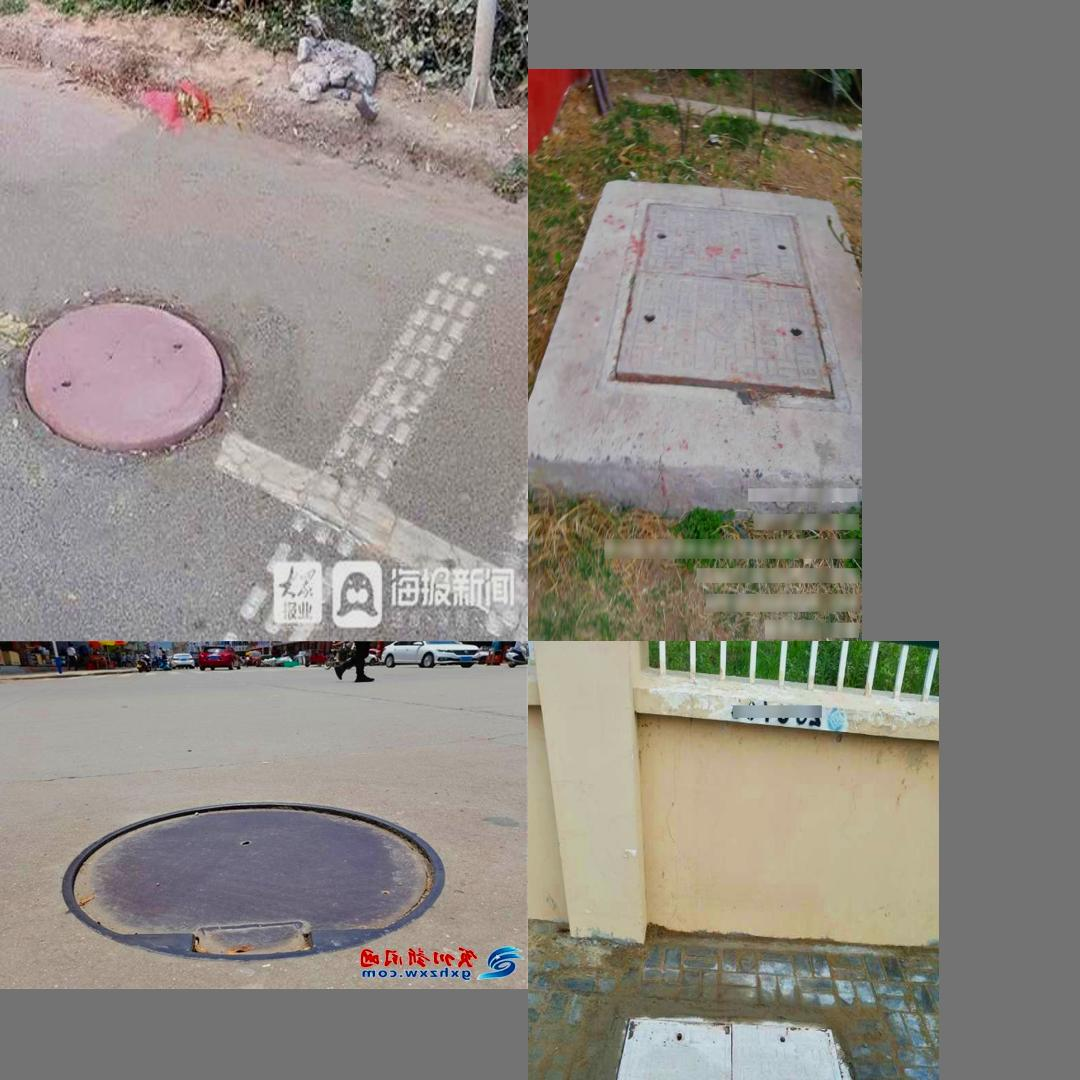good: (44, 790, 452, 966), (592, 199, 849, 407), (0, 276, 262, 471), (593, 1016, 874, 1080)
